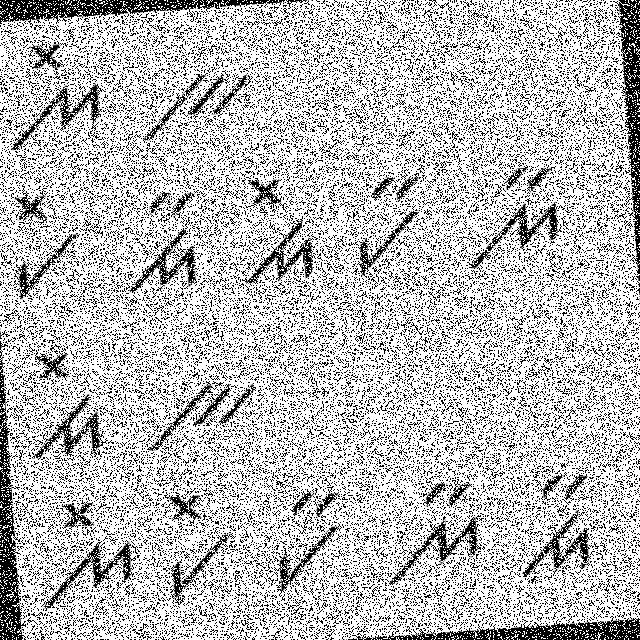dan: (116, 184, 206, 306), (513, 468, 604, 582)
do: (13, 342, 108, 464), (230, 169, 326, 289)
nan: (448, 148, 572, 276), (372, 474, 488, 588)
no: (33, 492, 140, 621), (0, 38, 107, 162)
pan: (340, 159, 433, 287), (266, 482, 362, 592)
po: (153, 481, 244, 604), (0, 186, 86, 309)
